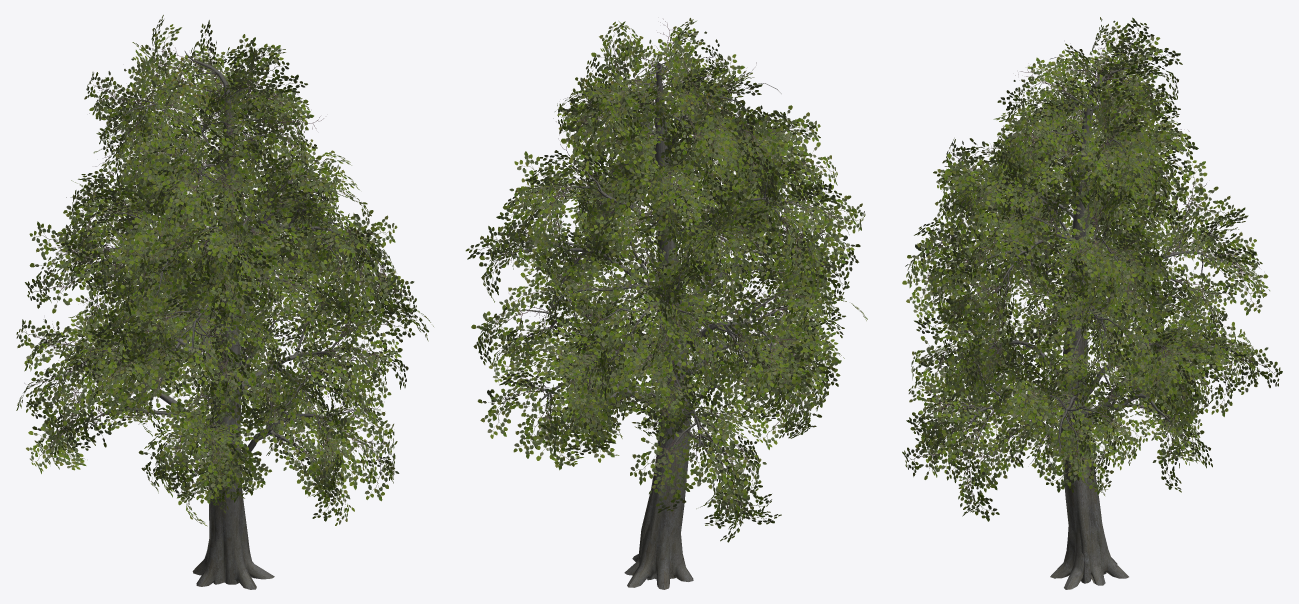
The model's file is Linden.fbx.
The picture shows the model from 3 angles, left to right: view 1: azimuth 30°, elevation 25°; view 2: azimuth 150°, elevation 25°; view 3: azimuth 270°, elevation 25°; orthographic projection. The views are drawn at different scales.
Parts seen in each view (by area): view 1: Linden_LOD0; view 2: Linden_LOD0; view 3: Linden_LOD0.
Boxes of the visible parts, x1,y1,x2,y2 form: Linden_LOD0: (16, 15, 433, 589); Linden_LOD0: (465, 18, 867, 589); Linden_LOD0: (902, 17, 1282, 589).
Size of what is drawn, in the model's own units: 12.02 by 18.62 by 12.11.
Materials: 2 (2 with a texture image).
